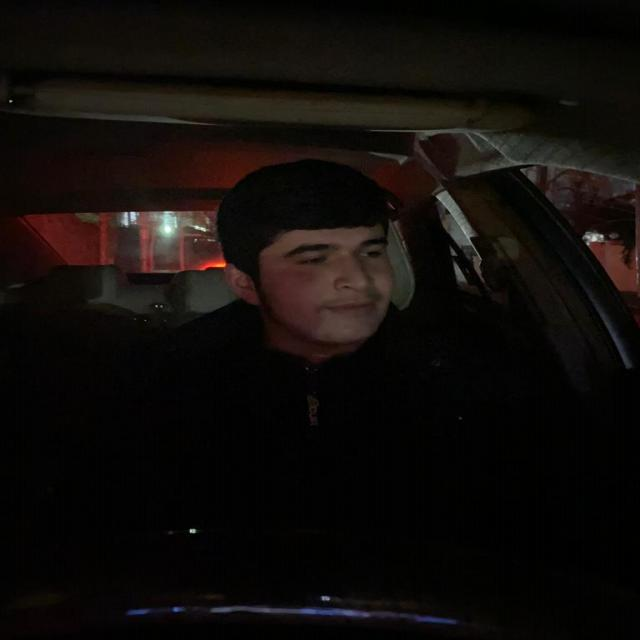person: (219, 171, 410, 348)
